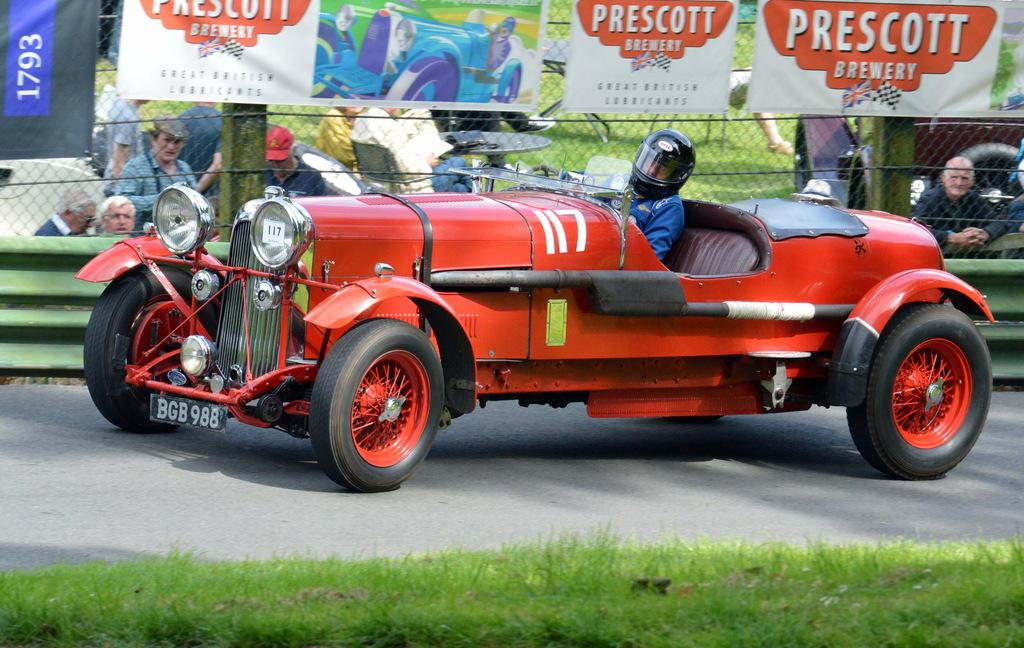helmet: (629, 128, 696, 200)
nohelmet: (56, 189, 97, 235), (151, 117, 188, 164), (266, 126, 298, 176), (99, 195, 137, 236), (941, 156, 976, 198)
